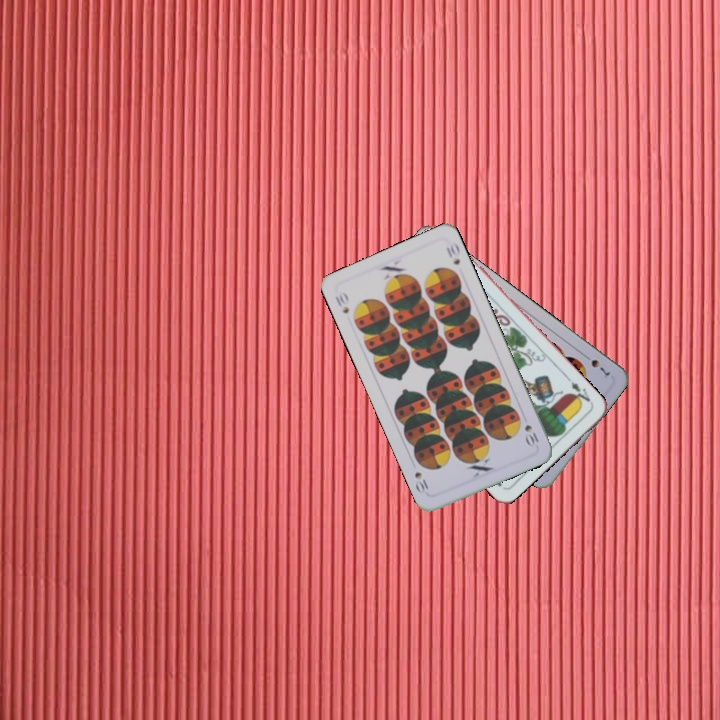EA: (564, 374, 595, 407)
S10: (520, 420, 541, 449), (331, 288, 352, 317)
S7: (579, 350, 612, 379)
